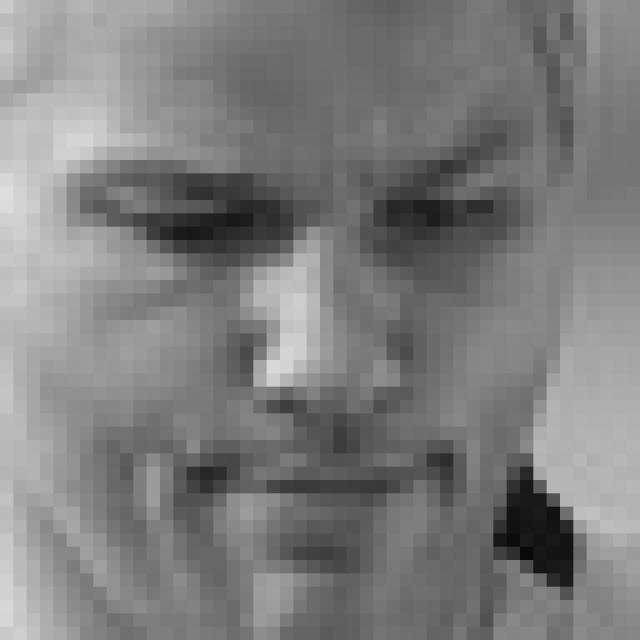sad: (57, 120, 538, 574)
